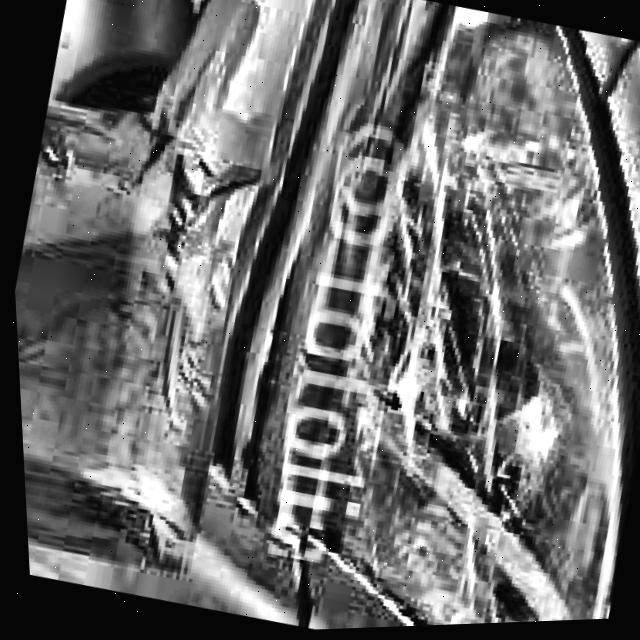head_lamp: (303, 156, 597, 587)
